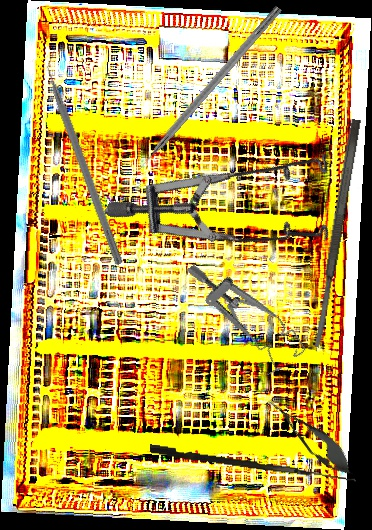Chopper: (38, 47, 135, 266)
Hook Surgical: (128, 3, 283, 178), (149, 444, 357, 482)
Micro Scissor: (258, 388, 362, 485)
Spatula Surgical: (310, 118, 363, 349)
Speculum: (103, 73, 363, 316), (185, 238, 308, 384)
